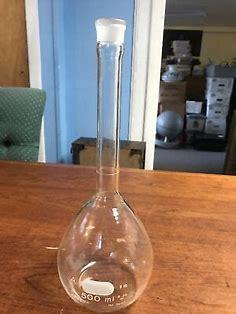Volumetric flask: (52, 15, 157, 308)
